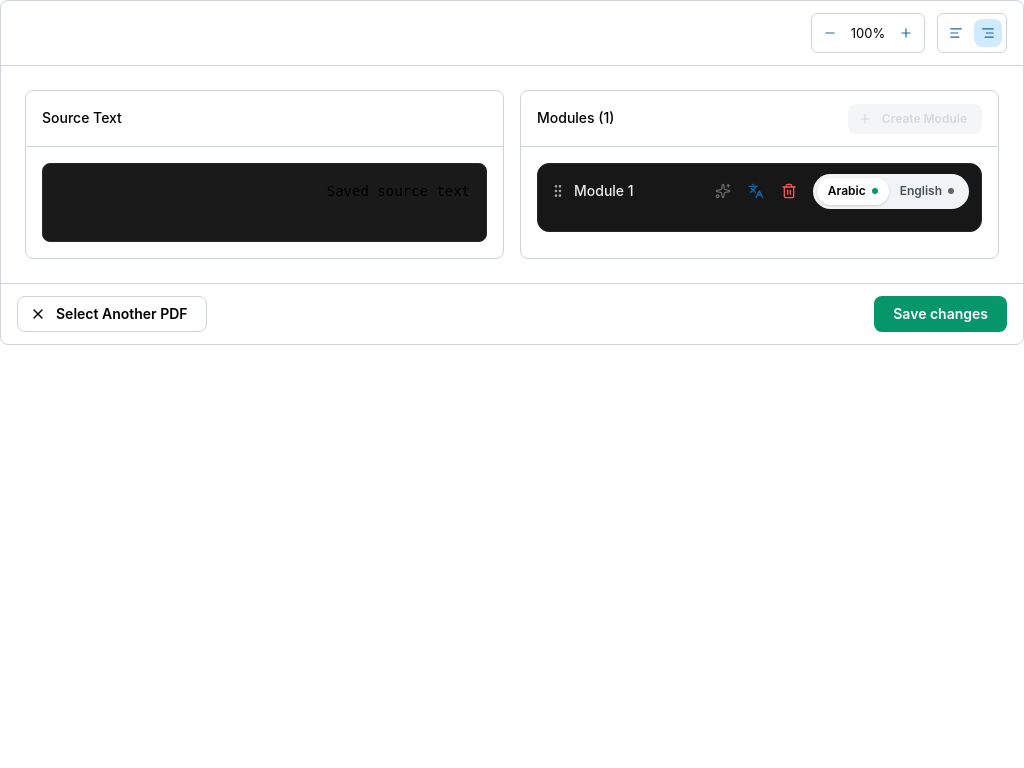
Test: SavedSourceView › Delete › uses the temporary-Module confirmation copy for an unsaved entry
Click the button named "Delete Module 1": (789, 191) [775, 177, 803, 205]
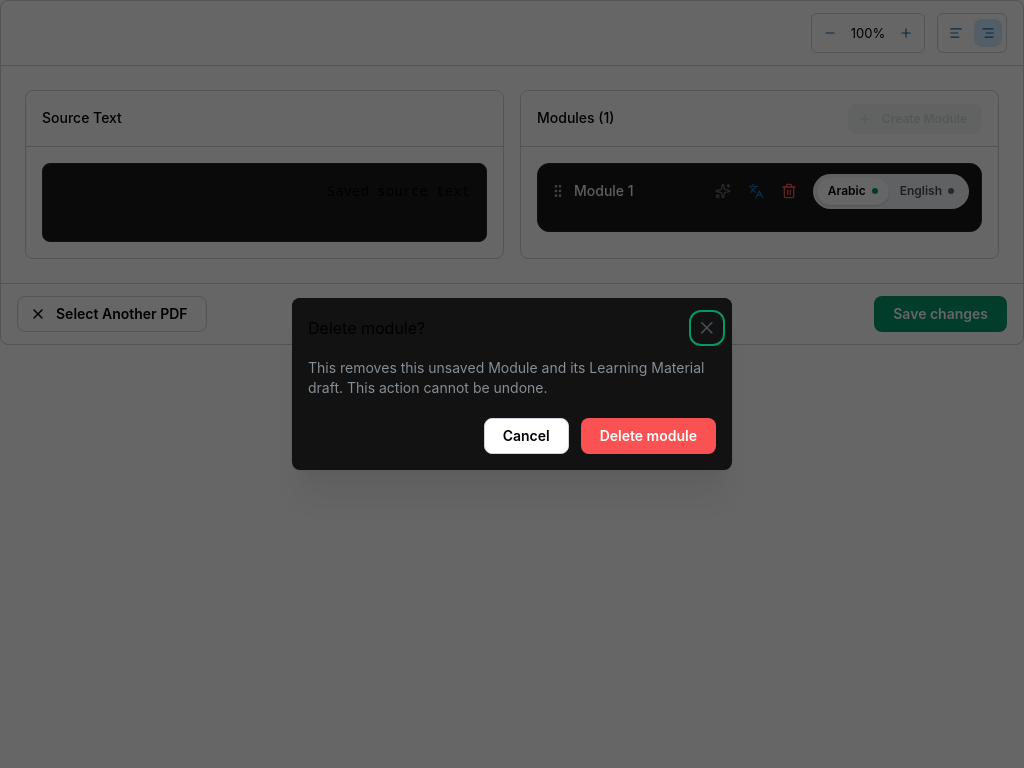
Expected: the text "This removes this unsaved Module and its Learning Material draft. This action cannot be undone." is shown, [308, 359, 704, 396]
